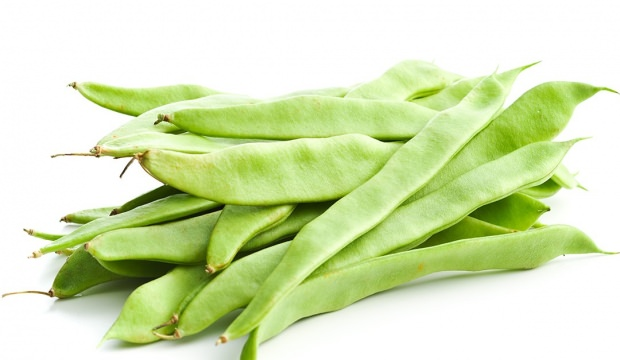Beans: (214, 60, 540, 342)
